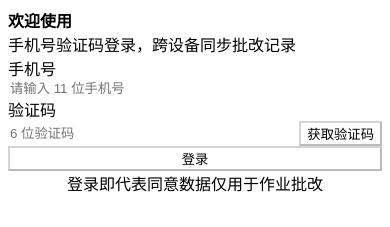
Test case: Login > 登录页 › shows an error when login fails (wrong code)
The image size is (390, 227).
Type "13800138000" into the number field with placeholder "请输入 11 位手机号" at coordinates (195, 88), box x1=8 y1=80 x2=382 y2=97
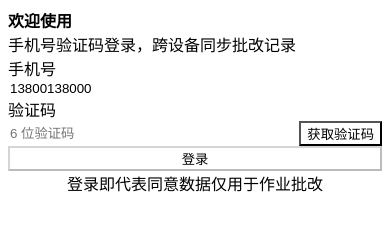
Type "000000" into the number field with placeholder "6 位验证码" at coordinates (154, 134), box x1=8 y1=121 x2=299 y2=146
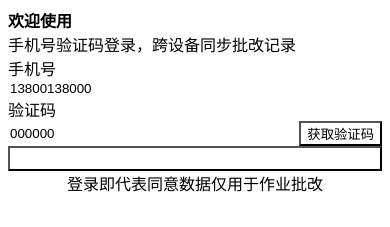
Click the button "登录" at coordinates (195, 158), box x1=8 y1=146 x2=382 y2=171
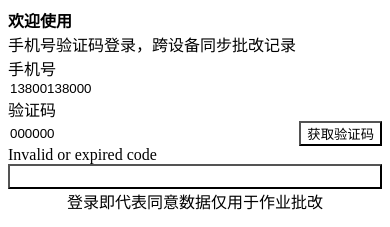
Now the text "Invalid or expired code" is shown, box x1=8 y1=146 x2=157 y2=163
